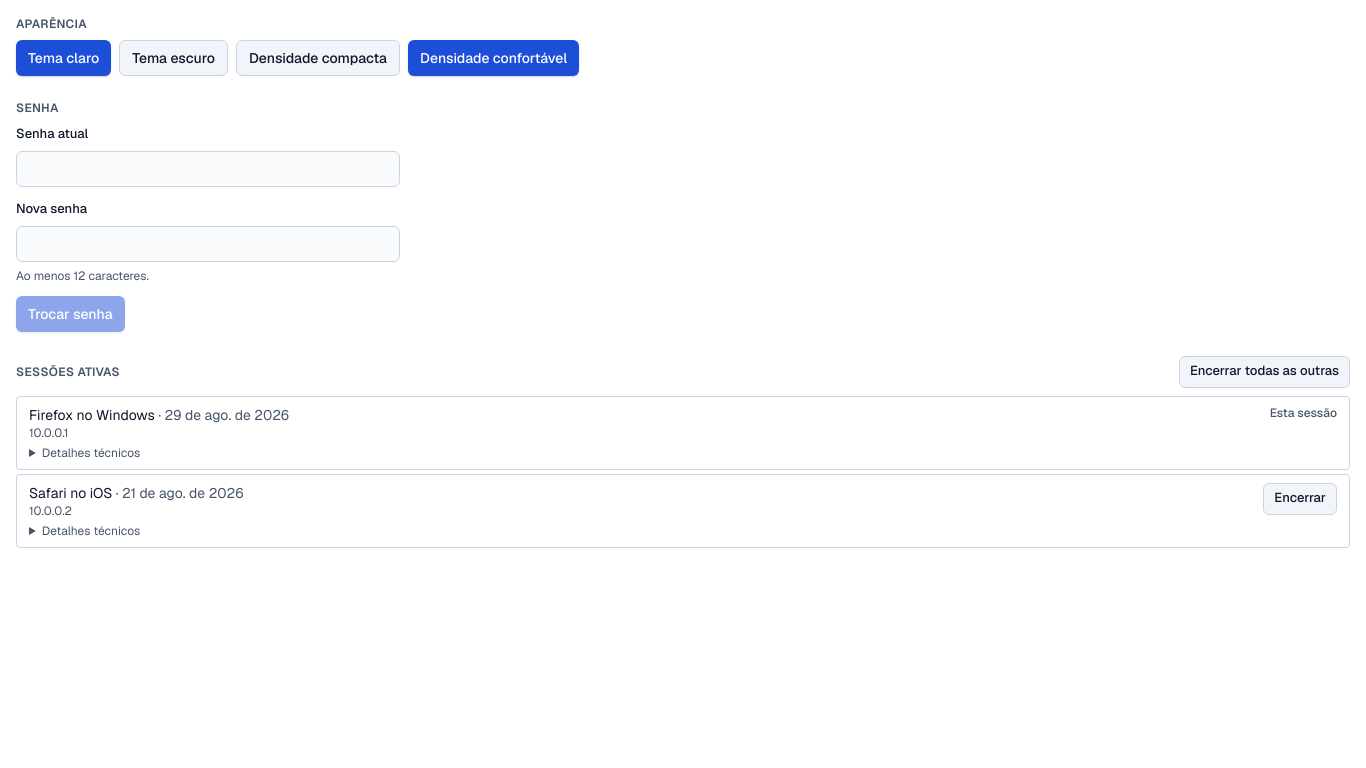
configuracoes › sessões ativas listam dispositivo e permitem revogar
Check: the text "Firefox no Windows · 29 de ago. de 2026" is shown, box [29,405,289,425]
Check: the text "Safari no iOS · 21 de ago. de 2026" is shown, box [29,483,244,503]
Click the button with aria-label "Encerrar Safari no iOS" at x=1300, y=499, box [1263,483,1337,515]
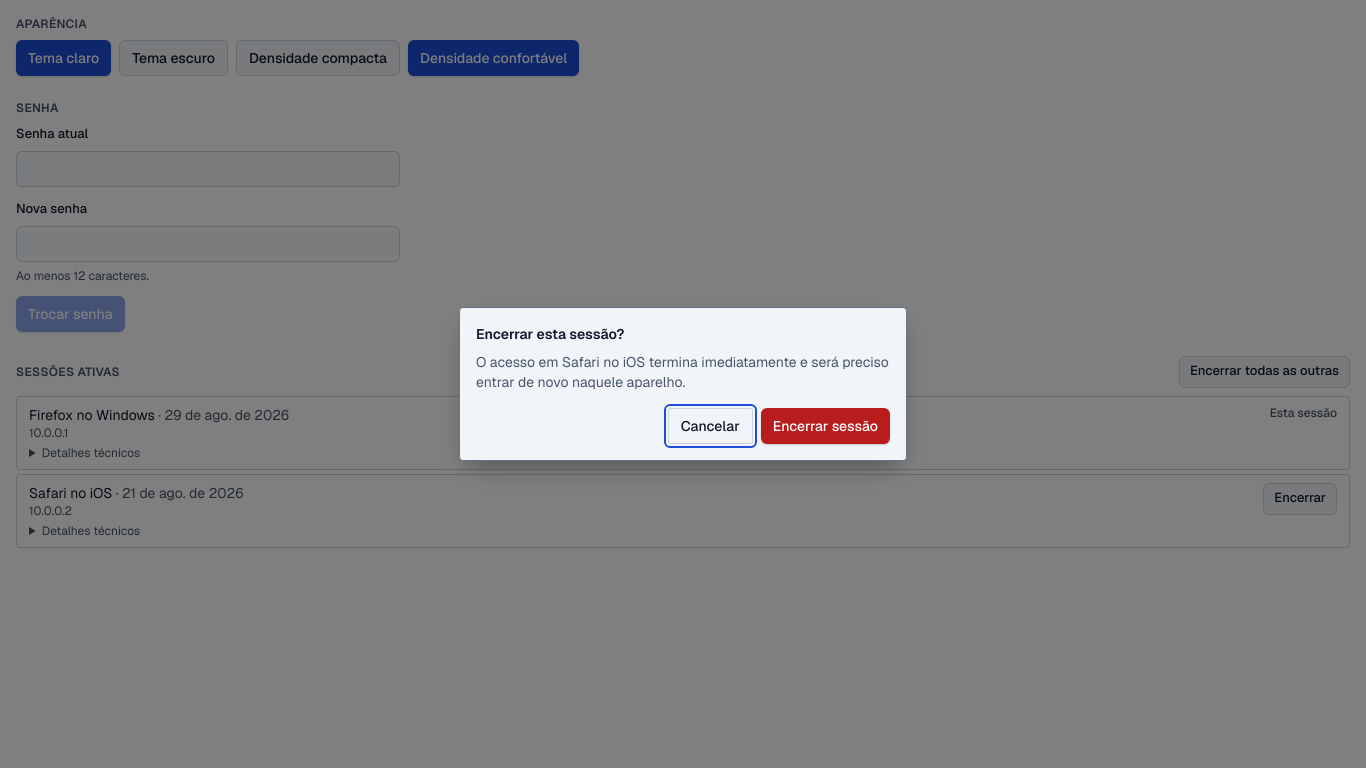
Check: the dialog is shown, box [459,307,907,461]
